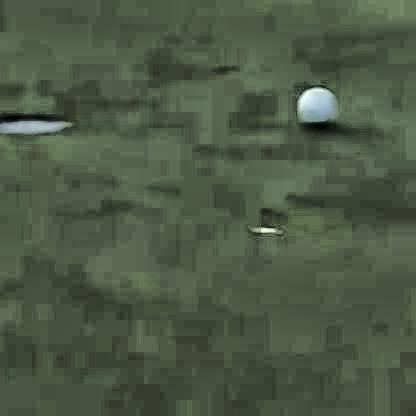golfball: (295, 83, 332, 122)
